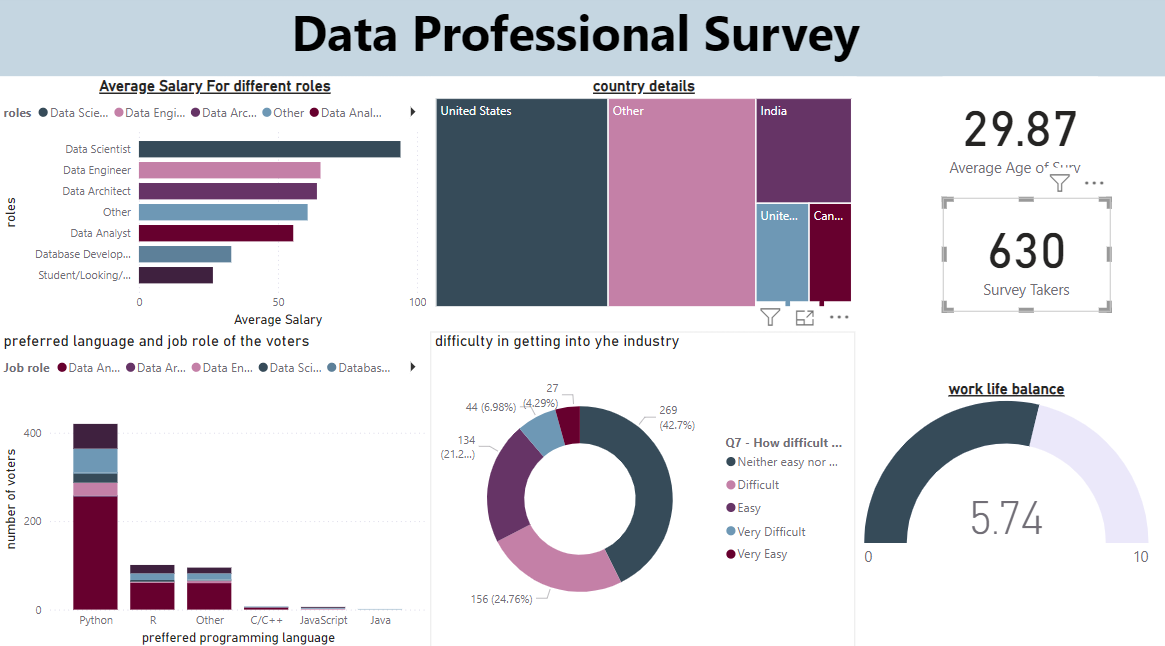

The page's visual inventory and layout, read from the dashboard file:
{"tool":"powerbi","page":{"name":"Page 1","canvas":[1280,720],"ordinal":0},"visuals":[{"type":"textbox","box":[0,0,1280.3,90.6],"z":0},{"type":"card","fields":{"Values":["Count(Data Professional Survey.Unique ID)"]},"box":[1036,223.7,183.9,124.9],"z":1000},{"type":"card","fields":{"Values":["Avg(Data Professional Survey.Q10 - Current Age)"]},"box":[1036,90.6,170.2,123.5],"z":2000},{"type":"barChart","title":"Average Salary For different roles","fields":{"Category":["Data Professional Survey.Q1 - Which Title Best Fits your Current Role?.1"],"Y":["Avg(Data Professional Survey.Average salary)"],"Series":["Data Professional Survey.Q1 - Which Title Best Fits your Current Role?.1"]},"box":[0,91.1,474.1,279.5],"z":3000},{"type":"columnChart","title":"preferred language and job role of the voters","fields":{"Category":["Data Professional Survey.Q5 - Favorite Programming Language.1"],"Y":["Count(Data Professional Survey.Unique ID)"],"Series":["Data Professional Survey.Q1 - Which Title Best Fits your Current Role?.1"]},"box":[0,370.7,474.1,349],"z":4000},{"type":"treemap","title":"country details","fields":{"Values":["CountNonNull(Data Professional Survey.Q11 - Which Country do you live in?.1)"],"Group":["Data Professional Survey.Q11 - Which Country do you live in?.1"]},"box":[474.1,91.1,466.4,257.9],"z":5000},{"type":"donutChart","title":"difficulty in getting into  yhe industry","fields":{"Y":["CountNonNull(Data Professional Survey.Q7 - How difficult was it for you to break into Data?)"],"Category":["Data Professional Survey.Q7 - How difficult was it for you to break into Data?"]},"box":[474,371,466,349],"z":6000},{"type":"gauge","title":"work life balance","fields":{"Y":["Avg(Data Professional Survey.Q6 - How Happy are you in your Current Position with the following? (Work/Life Balance))"],"MinValue":["Min(Data Professional Survey.Q6 - How Happy are you in your Current Position with the following? (Work/Life Balance))"],"MaxValue":["Max(Data Professional Survey.Q6 - How Happy are you in your Current Position with the following? (Work/Life Balance))"]},"box":[941.3,422.6,329.3,216.8],"z":7000}]}

Visuals, with their boxes in screenshot pixels (x1, y1, x2, y2), scaled from the page's 1280x720 canvas onto the 1165x646 screenshot:
textbox: box=[0, 0, 1164, 81]
card - Count(Data Professional Survey.Unique ID): box=[943, 201, 1110, 313]
card - Avg(Data Professional Survey.Q10 - Current Age): box=[943, 81, 1098, 192]
"Average Salary For different roles" barChart: box=[0, 82, 432, 333]
"preferred language and job role of the voters" columnChart: box=[0, 333, 432, 645]
"country details" treemap: box=[432, 82, 856, 313]
"difficulty in getting into  yhe industry" donutChart: box=[431, 333, 856, 645]
"work life balance" gauge: box=[857, 379, 1156, 574]
